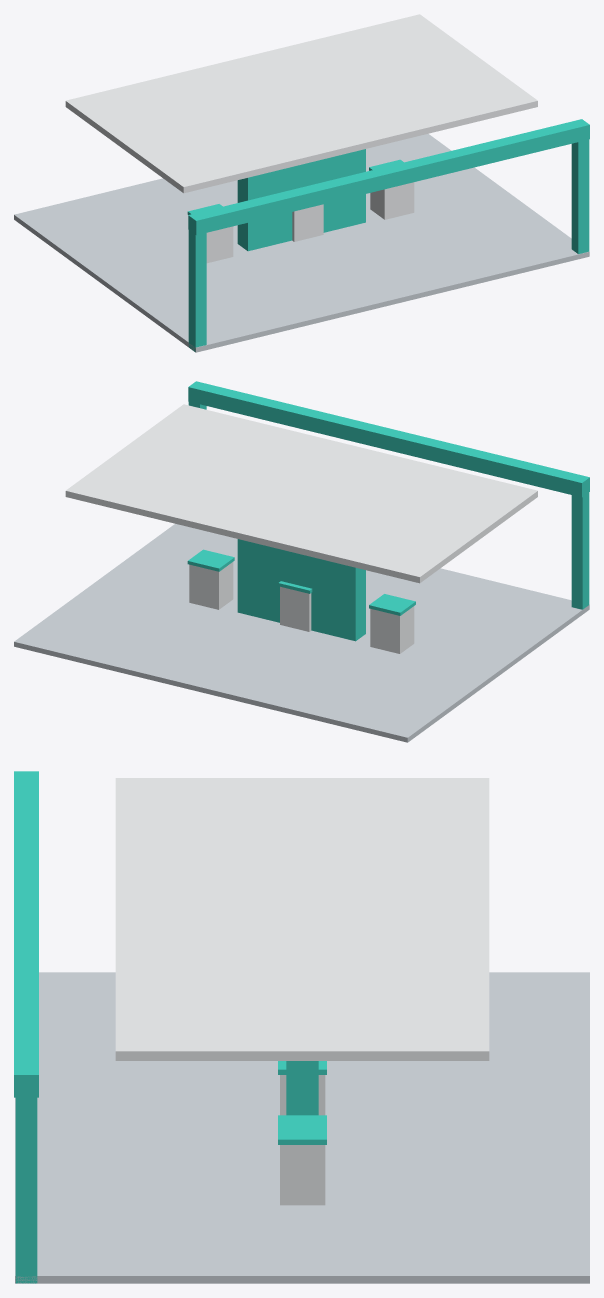
3 renders of one model, top to bottom at view 1: azimuth 30°, elevation 25°; view 2: azimuth 150°, elevation 25°; view 3: azimuth 270°, elevation 25°, orthographic. The views are drawn at different scales.
Visible parts, largest first — view 1: Exhibition Booth Concept; view 2: Exhibition Booth Concept; view 3: Exhibition Booth Concept.
Boxes of the visible parts, left/top/right/bottom form: Exhibition Booth Concept: left=14, top=14, right=589, bottom=352; Exhibition Booth Concept: left=14, top=381, right=589, bottom=742; Exhibition Booth Concept: left=14, top=771, right=589, bottom=1283.
Size of the model in its own units: 10 by 3.34 by 8.01.
